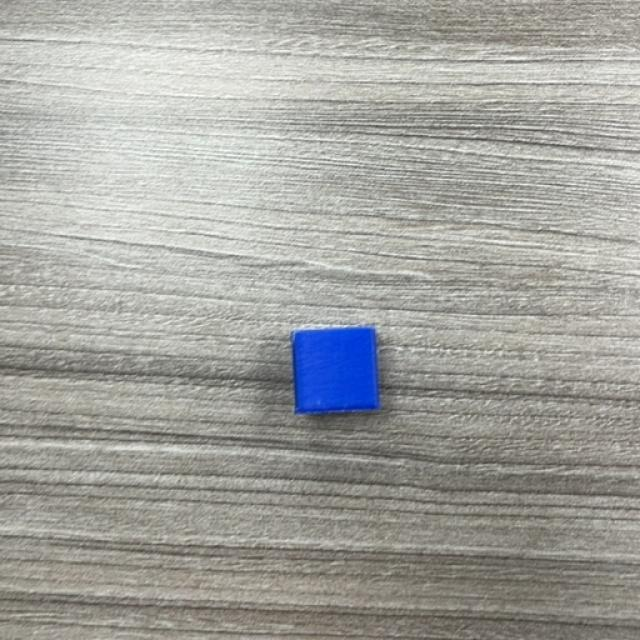Azul: (292, 328, 381, 416)
